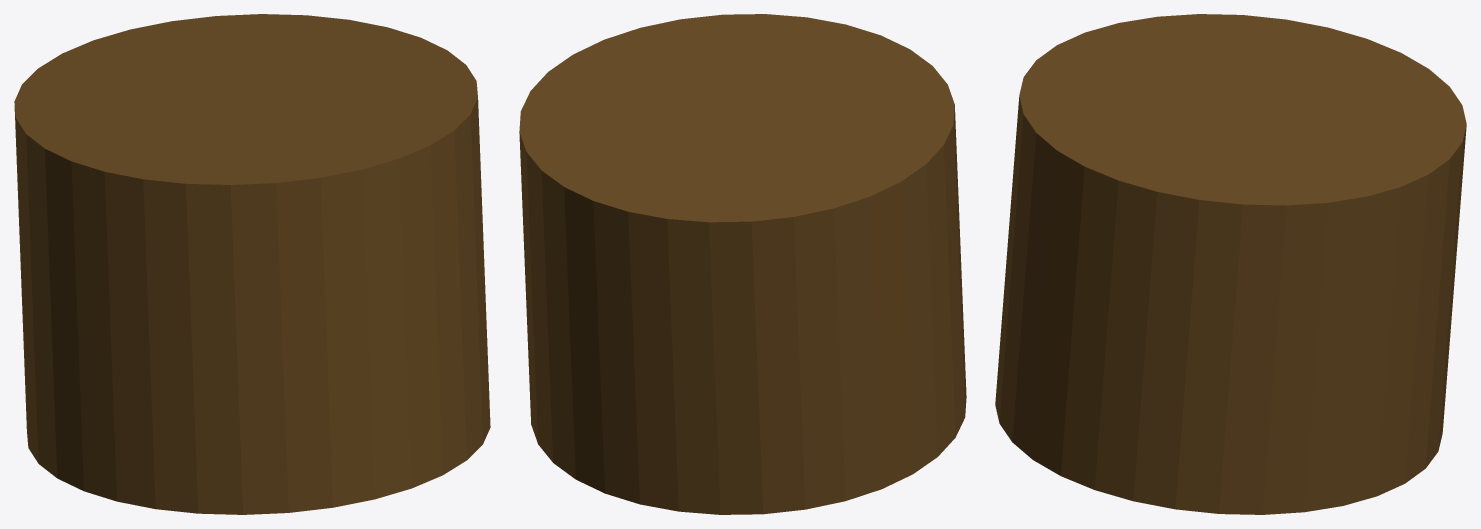
Rendered from left_shoulder_y_link_visual_2.obj.
3 renders of one model, left to right at view 1: azimuth 30°, elevation 25°; view 2: azimuth 150°, elevation 25°; view 3: azimuth 270°, elevation 25°, orthographic. The views are drawn at different scales.
Parts seen in each view (by area): view 1: i01.leftArm.omoplate.full.003_visual.001; view 2: i01.leftArm.omoplate.full.003_visual.001; view 3: i01.leftArm.omoplate.full.003_visual.001.
Boxes of the visible parts, <box> form: i01.leftArm.omoplate.full.003_visual.001: <box>14,14,490,514</box>; i01.leftArm.omoplate.full.003_visual.001: <box>519,14,966,514</box>; i01.leftArm.omoplate.full.003_visual.001: <box>995,14,1466,514</box>.
Size of the model in its own units: 0.0716 by 0.0595 by 0.0753.
